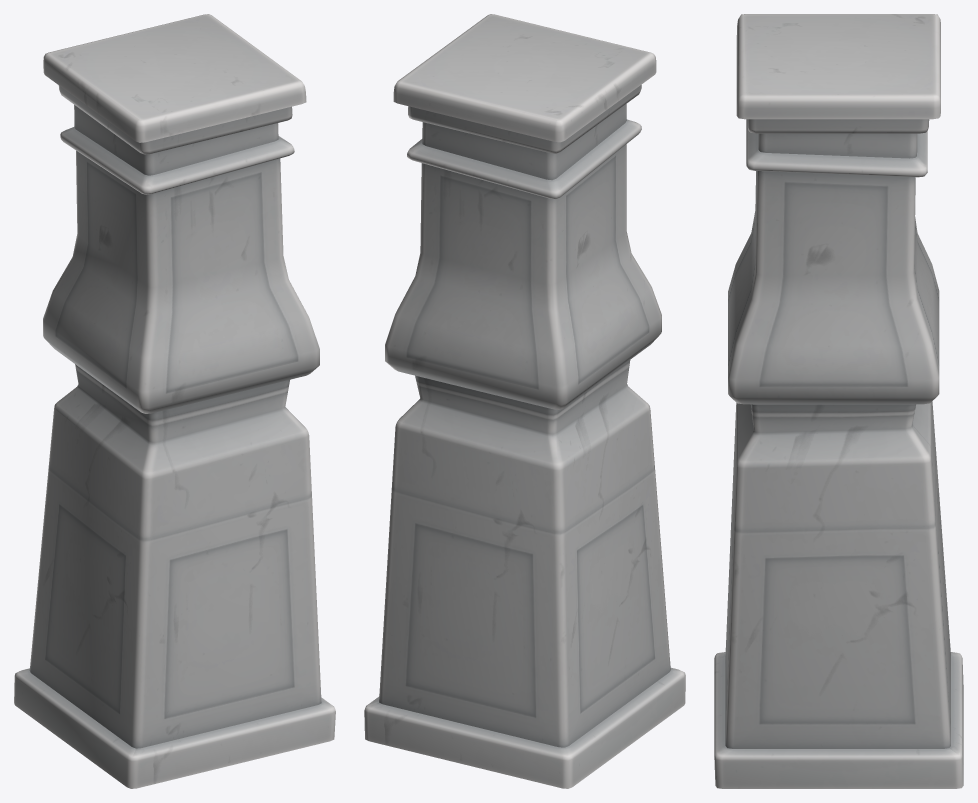
Rendered from ParkPedestal02_1.FBX.
3 renders of one model, left to right at view 1: azimuth 30°, elevation 25°; view 2: azimuth 150°, elevation 25°; view 3: azimuth 270°, elevation 25°, orthographic. The views are drawn at different scales.
Parts seen in each view (by area): view 1: ParkPedestal02_1; view 2: ParkPedestal02_1; view 3: ParkPedestal02_1.
Part boxes in pixels (left/top/right/bottom): ParkPedestal02_1: left=14, top=14, right=335, bottom=788; ParkPedestal02_1: left=364, top=14, right=685, bottom=788; ParkPedestal02_1: left=714, top=14, right=963, bottom=788.
Size of what is drawn, in the model's own units: 0.6637 by 2 by 0.6626.
